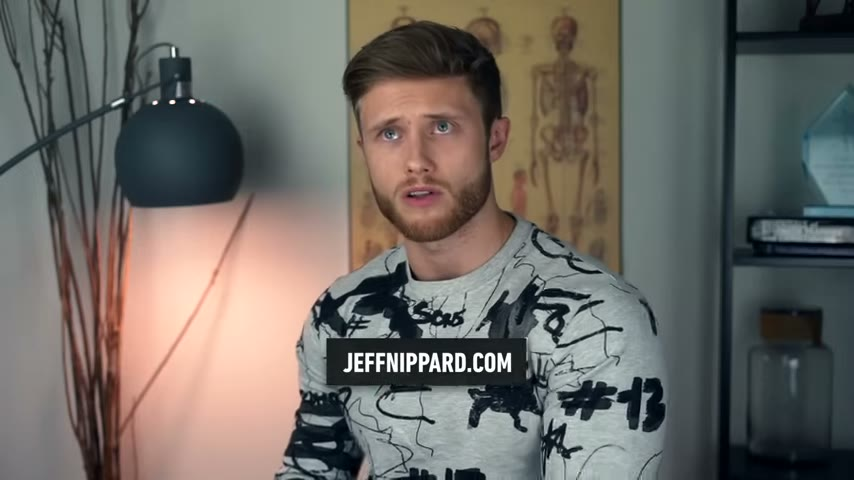barbell_plate_side: (562, 238, 669, 458)
